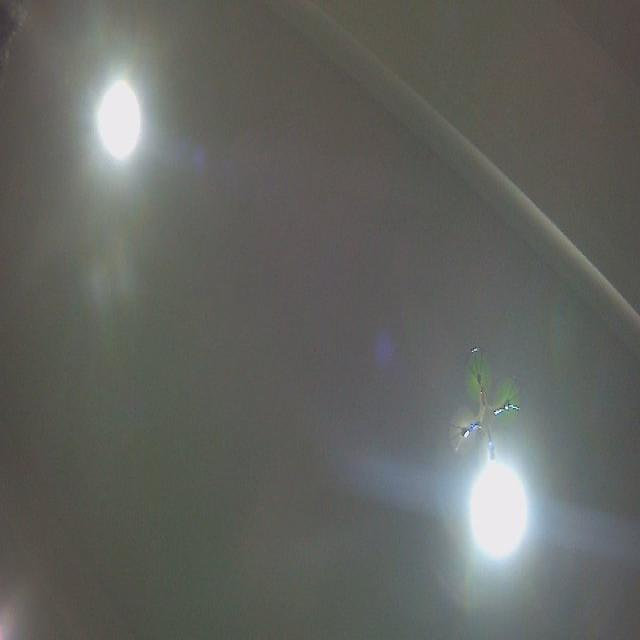drone: (446, 342, 523, 482)
